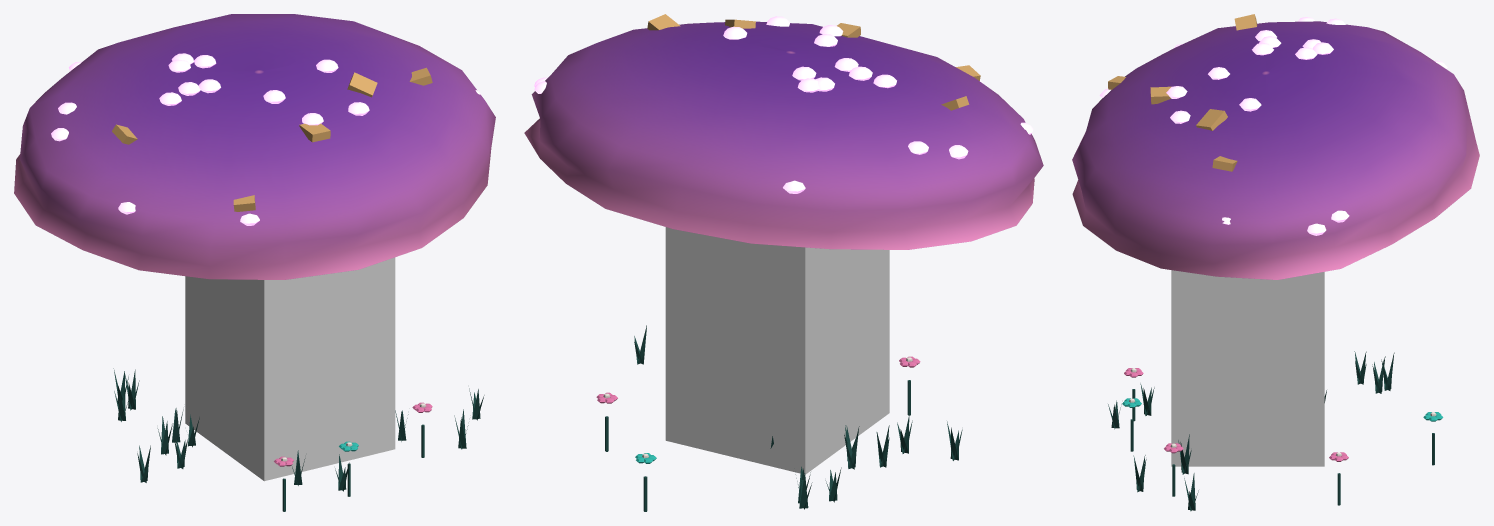
Rendered from Giant_Mushroom_B.fbx.
The picture shows the model from 3 angles, left to right: view 1: azimuth 30°, elevation 25°; view 2: azimuth 150°, elevation 25°; view 3: azimuth 270°, elevation 25°; orthographic projection. The views are drawn at different scales.
Parts seen in each view (by area): view 1: Giant_Mushroom_B_Cap, COL_Giant_Mushroom_B_0, Giant_Mushroom_B_Cap_Decoration, Giant_Mushroom_B_Base_Grass; view 2: Giant_Mushroom_B_Cap, COL_Giant_Mushroom_B_0, Giant_Mushroom_B_Cap_Decoration, Giant_Mushroom_B_Base_Grass; view 3: Giant_Mushroom_B_Cap, COL_Giant_Mushroom_B_0, Giant_Mushroom_B_Cap_Decoration, Giant_Mushroom_B_Base_Grass.
Part boxes in pixels (bbox=[...]): Giant_Mushroom_B_Cap: bbox=[14, 14, 495, 279]; COL_Giant_Mushroom_B_0: bbox=[185, 257, 395, 481]; Giant_Mushroom_B_Cap_Decoration: bbox=[51, 44, 481, 225]; Giant_Mushroom_B_Base_Grass: bbox=[113, 368, 484, 511]; Giant_Mushroom_B_Cap: bbox=[524, 21, 1043, 249]; COL_Giant_Mushroom_B_0: bbox=[665, 227, 889, 474]; Giant_Mushroom_B_Cap_Decoration: bbox=[534, 14, 1033, 193]; Giant_Mushroom_B_Base_Grass: bbox=[596, 325, 962, 511]; Giant_Mushroom_B_Cap: bbox=[1072, 21, 1479, 279]; COL_Giant_Mushroom_B_0: bbox=[1171, 270, 1324, 466]; Giant_Mushroom_B_Cap_Decoration: bbox=[1099, 14, 1447, 235]; Giant_Mushroom_B_Base_Grass: bbox=[1108, 351, 1443, 511].
Size of the model in its own units: 3.58 by 3.01 by 2.96.
9 materials, 1 textured.
